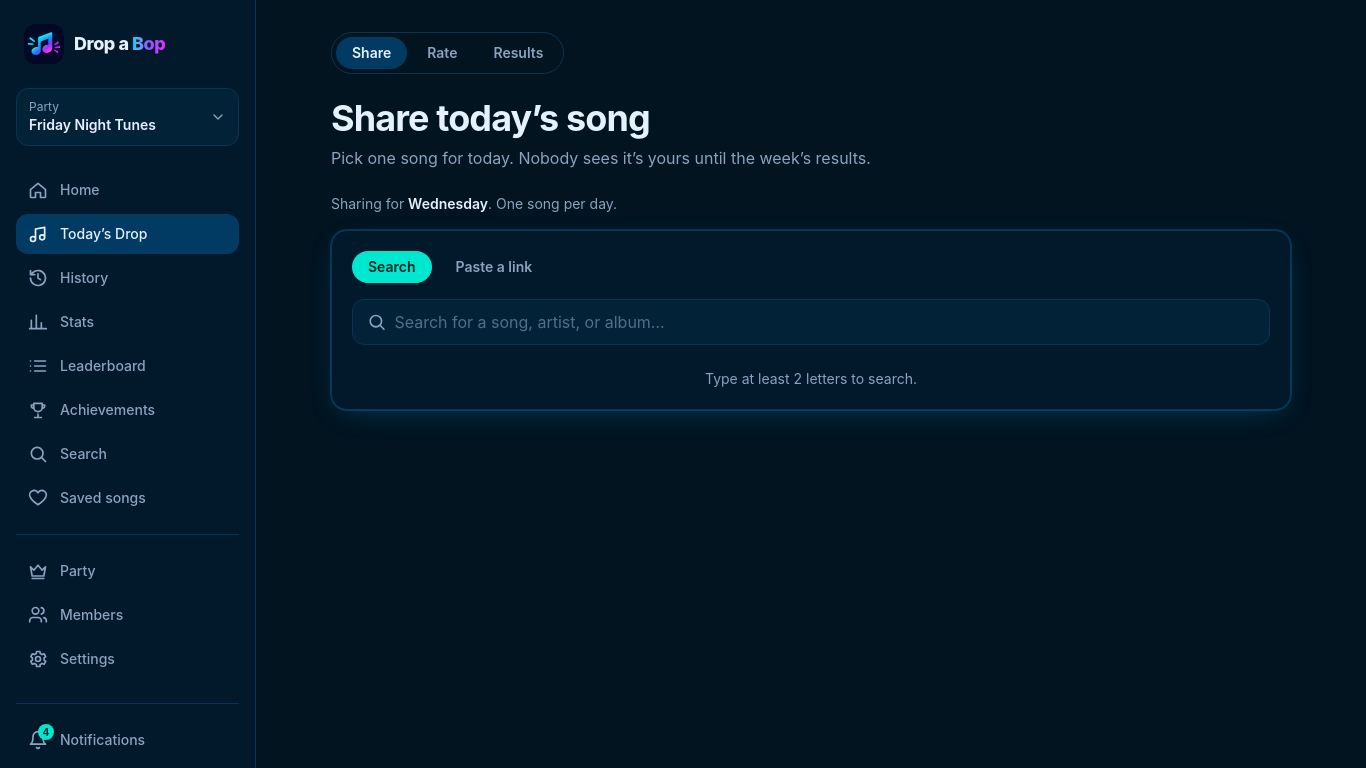
Test: Share today’s song (P8.4) › accepts a pasted YouTube Music link the same way
Click the tab "Paste a link" at (494, 267), box [440, 251, 548, 283]
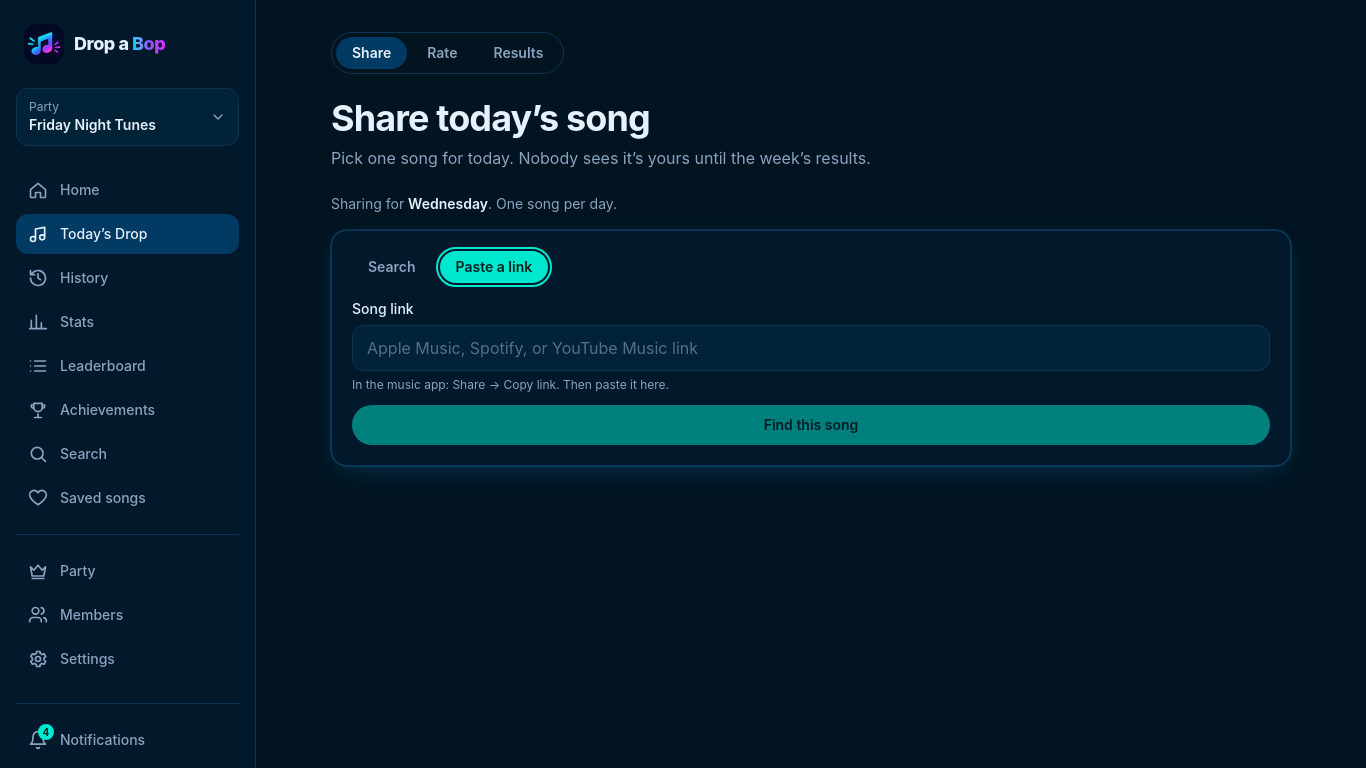
Type "https://music.youtube.com/watch?v=dQw4w9WgXcQ" into the field labelled "Song link" at (811, 348), box [352, 325, 1270, 371]
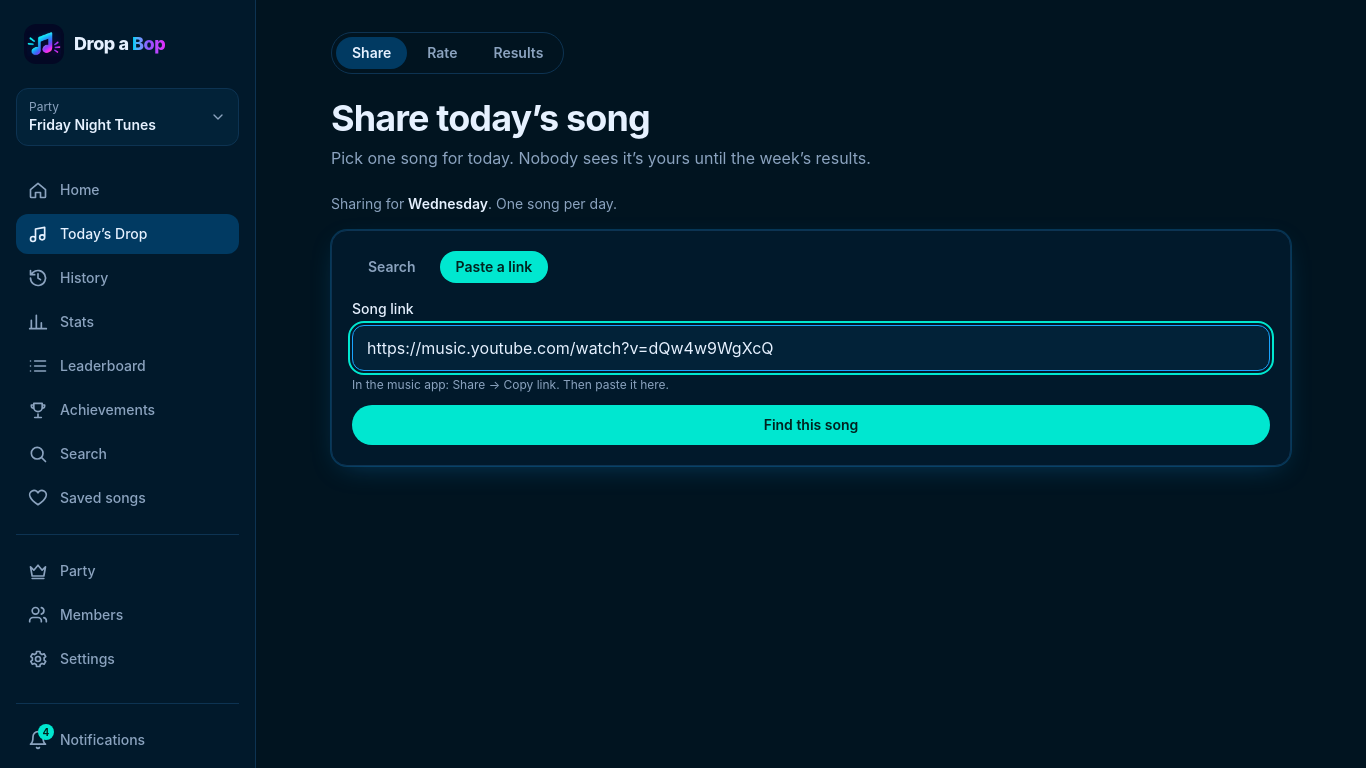
Click the button "Find this song" at (811, 425), box [352, 405, 1270, 445]
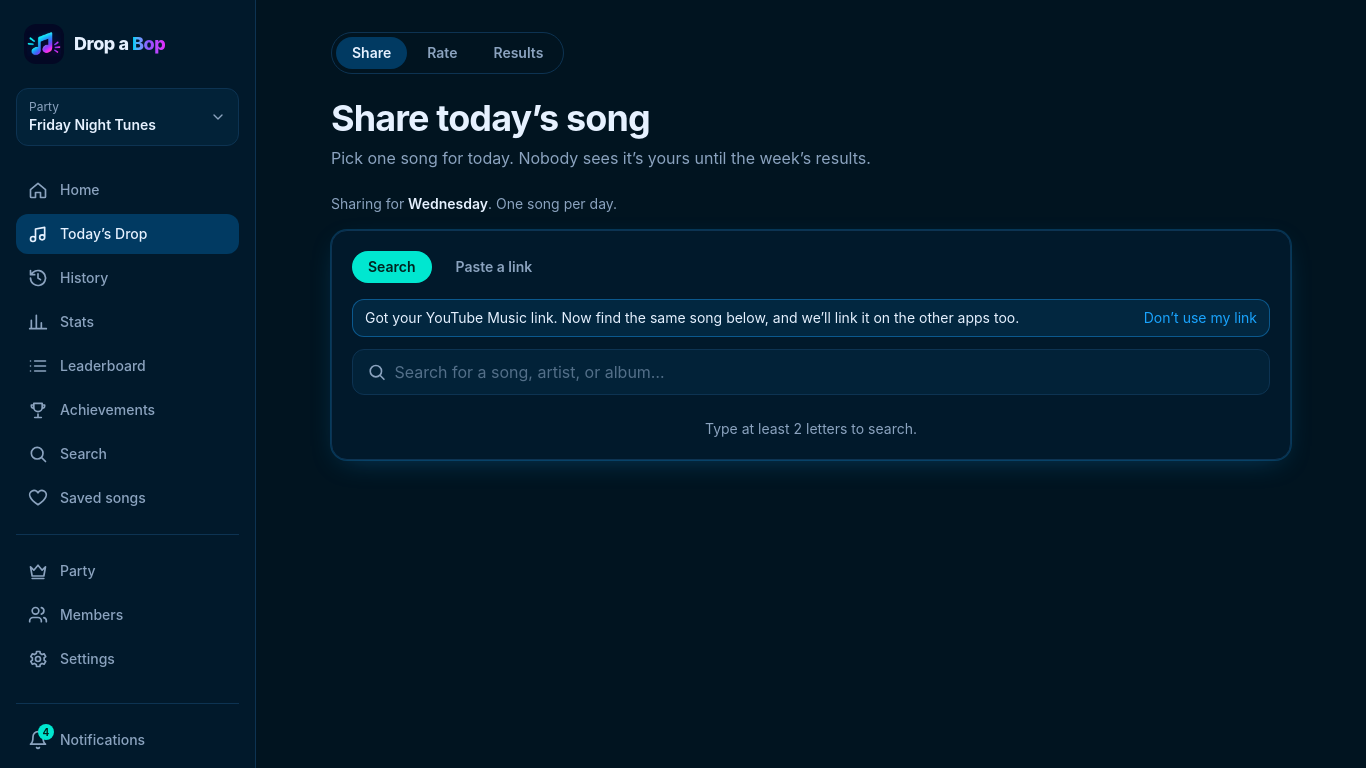
Expected: the text "Got your YouTube Music link" is shown, [365, 308, 1019, 328]
